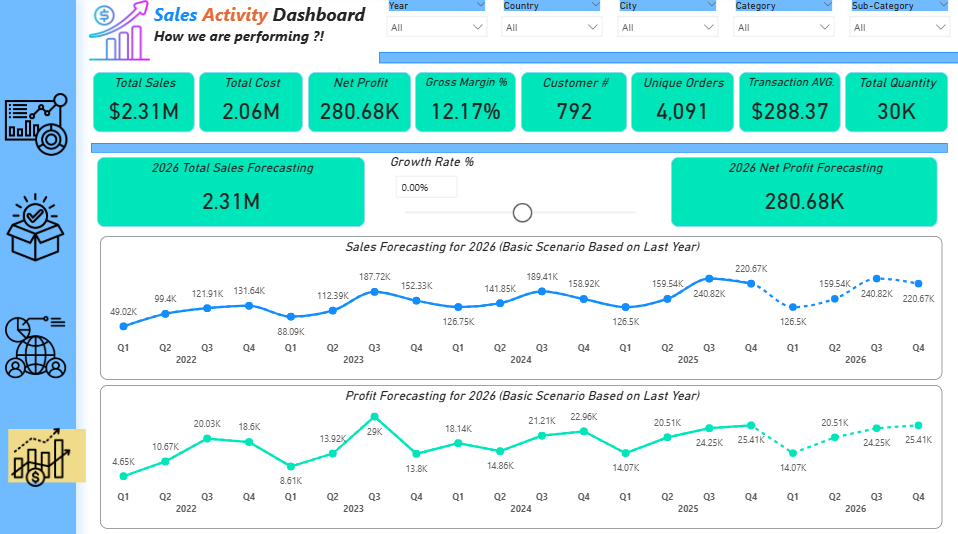

What the dashboard file says about the page in this screenshot:
{"tool":"powerbi","page":{"name":"Forecasting Analysis","canvas":[1280,720],"ordinal":3},"visuals":[{"type":"shape","box":[0,0,105.3,720],"z":0},{"type":"slicer","title":"Growth Rate %","fields":{"Values":["Growth Rate (%).Growth Rate (%)"]},"box":[516.3,209.5,354.5,98.5],"z":1000,"group":"g2"},{"type":"image","box":[4.6,262,93.7,90.5],"z":1000},{"type":"image","box":[7.7,127,87.3,85.8],"z":2000},{"type":"slicer","fields":{"Values":["Dim - Country.Country"]},"box":[660.5,-0.3,154,62.5],"z":3000},{"type":"card","title":"2026 Total Sales Forecasting","fields":{"Values":["_Key Measures.17. Total Sales Forecast"]},"box":[132.8,213.9,356.2,92.9],"z":3000,"group":"g2"},{"type":"image","box":[9.3,422.4,84.2,87.3],"z":4000},{"type":"card","title":"Total Sales","fields":{"Values":["_Key Measures.01. Total Sales"]},"box":[127.5,100.6,135.1,79.8],"z":5000},{"type":"card","title":"2026 Net Profit  Forecasting","fields":{"Values":["_Key Measures.19. Net Profit Forecast"]},"box":[895.5,213.9,354.5,92.9],"z":5000,"group":"g2"},{"type":"group","id":"g1","title":"Group 5","box":[0,572.2,133.4,81.4],"z":6000},{"type":"slicer","fields":{"Values":["_Dim - Calendar._Dim Calendar Hierarchy.Year"]},"box":[507.8,-0.3,153.7,62.5],"z":7000},{"type":"lineChart","title":"Sales Forecasting for 2026 (Basic Scenario Based on Last Year)","fields":{"Y":["_Key Measures.18. Total Sales Without 2026 (After Discount)","_Key Measures.17. Total Sales Forecast"],"Category":["_Dim - Calendar._Dim Calendar Hierarchy.Year","_Dim - Calendar._Dim Calendar Hierarchy.Quarter","_Dim - Calendar._Dim Calendar Hierarchy.Month No.","_Dim - Calendar._Dim Calendar Hierarchy.Mnonth Name","_Dim - Calendar._Dim Calendar Hierarchy.Week No. Monthly"]},"box":[136.8,318.8,1118.5,191.3],"z":8000},{"type":"image","box":[0,575.4,133.4,71.5],"z":8750,"group":"g1"},{"type":"slicer","fields":{"Values":["Dim - City.City"]},"box":[814.5,-0.3,154,61.3],"z":9000},{"type":"image","box":[11,572.2,95,81.4],"z":9250,"group":"g1"},{"type":"slicer","fields":{"Values":["Dim - Sub-Category.Sub-Category"]},"box":[1122.5,-0.3,154,61.3],"z":10000},{"type":"textbox","box":[203.4,2.5,304.9,84.2],"z":11000},{"type":"slicer","fields":{"Values":["Dim - Category.Category"]},"box":[968.5,-0.3,154,61.3],"z":12000},{"type":"image","box":[122.6,2.5,80.9,86],"z":13000},{"type":"card","title":"Total Cost","fields":{"Values":["_Key Measures.02. Cost of Goods Sold (COGS)"]},"box":[268.8,100.6,138.2,80.3],"z":14000},{"type":"shape","box":[507,74.7,773,15],"z":15000},{"type":"card","title":"Net Profit","fields":{"Values":["_Key Measures.03. Net Profit Value"]},"box":[413,100.6,136.6,80.3],"z":16000},{"type":"card","title":"Total Quantity","fields":{"Values":["_Key Measures.10 Total Quantity"]},"box":[1126.8,100.6,136.6,80.3],"z":17000},{"type":"card","title":"Transaction AVG.","fields":{"Values":["_Key Measures.09. Transaction Avg"]},"box":[985.6,100.6,135.1,80.3],"z":18000},{"type":"card","title":"Gross Margin %","fields":{"Values":["_Key Measures.04. Gross Margin % (GM %)"]},"box":[555.8,100.6,133.5,80.3],"z":19000},{"type":"card","title":"Customer #","fields":{"Values":["_Key Measures.06. Unique Customers"]},"box":[695.5,100.6,141.2,80.3],"z":20000},{"type":"card","title":"Unique Orders","fields":{"Values":["_Key Measures.08. Unique Orders"]},"box":[842.9,100.6,136.6,80.3],"z":21000},{"type":"lineChart","title":"Profit Forecasting for 2026 (Basic Scenario Based on Last Year)","fields":{"Y":["_Key Measures.20. Net Profit Value Without 2026 (After Discount)","_Key Measures.19. Net Profit Forecast"],"Category":["_Dim - Calendar._Dim Calendar Hierarchy.Year","_Dim - Calendar._Dim Calendar Hierarchy.Quarter","_Dim - Calendar._Dim Calendar Hierarchy.Month No.","_Dim - Calendar._Dim Calendar Hierarchy.Mnonth Name","_Dim - Calendar._Dim Calendar Hierarchy.Week No. Monthly"]},"box":[136.8,516.8,1118.5,191.3],"z":22000},{"type":"group","id":"g2","title":"Group 1","box":[132.8,209.5,1117.2,98.5],"z":23000},{"type":"shape","box":[124.6,195.7,1138.3,13.4],"z":24000}]}

Visuals, with their boxes in screenshot pixels (x1, y1, x2, y2), scaled from the page's 1280x720 canvas onto the 958x534 screenshot:
shape: select_region(0, 0, 79, 533)
"Growth Rate %" slicer: select_region(386, 155, 652, 228)
image: select_region(3, 194, 74, 261)
image: select_region(6, 94, 71, 158)
slicer - Dim - Country.Country: select_region(494, 0, 610, 46)
"2026 Total Sales Forecasting" card: select_region(99, 159, 366, 228)
image: select_region(7, 313, 70, 378)
"Total Sales" card: select_region(95, 75, 197, 134)
"2026 Net Profit  Forecasting" card: select_region(670, 159, 936, 228)
"Group 5" group: select_region(0, 424, 100, 485)
slicer - _Dim - Calendar._Dim Calendar Hierarchy.Year: select_region(380, 0, 495, 46)
"Sales Forecasting for 2026 (Basic Scenario Based on Last Year)" lineChart: select_region(102, 236, 940, 378)
image: select_region(0, 427, 100, 480)
slicer - Dim - City.City: select_region(610, 0, 725, 45)
image: select_region(8, 424, 79, 485)
slicer - Dim - Sub-Category.Sub-Category: select_region(840, 0, 955, 45)
textbox: select_region(152, 2, 380, 64)
slicer - Dim - Category.Category: select_region(725, 0, 840, 45)
image: select_region(92, 2, 152, 66)
"Total Cost" card: select_region(201, 75, 305, 134)
shape: select_region(379, 55, 957, 67)
"Net Profit" card: select_region(309, 75, 411, 134)
"Total Quantity" card: select_region(843, 75, 946, 134)
"Transaction AVG." card: select_region(738, 75, 839, 134)
"Gross Margin %" card: select_region(416, 75, 516, 134)
"Customer #" card: select_region(521, 75, 626, 134)
"Unique Orders" card: select_region(631, 75, 733, 134)
"Profit Forecasting for 2026 (Basic Scenario Based on Last Year)" lineChart: select_region(102, 383, 940, 525)
"Group 1" group: select_region(99, 155, 936, 228)
shape: select_region(93, 145, 945, 155)
